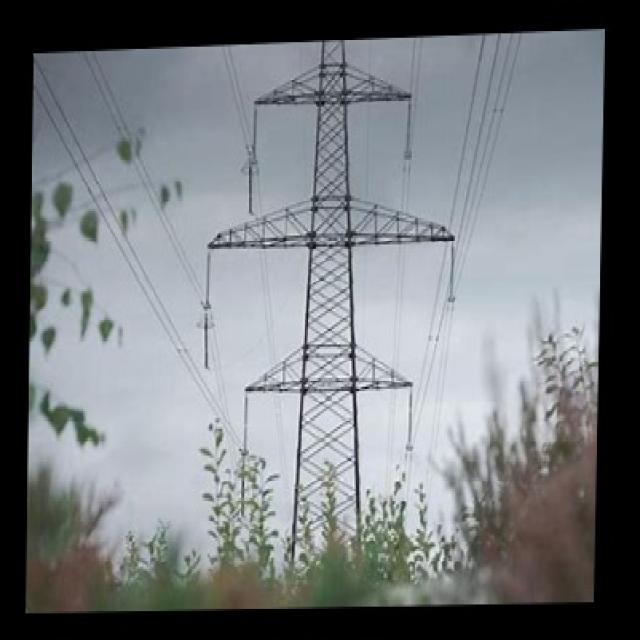utility poles: (199, 377, 470, 597)
